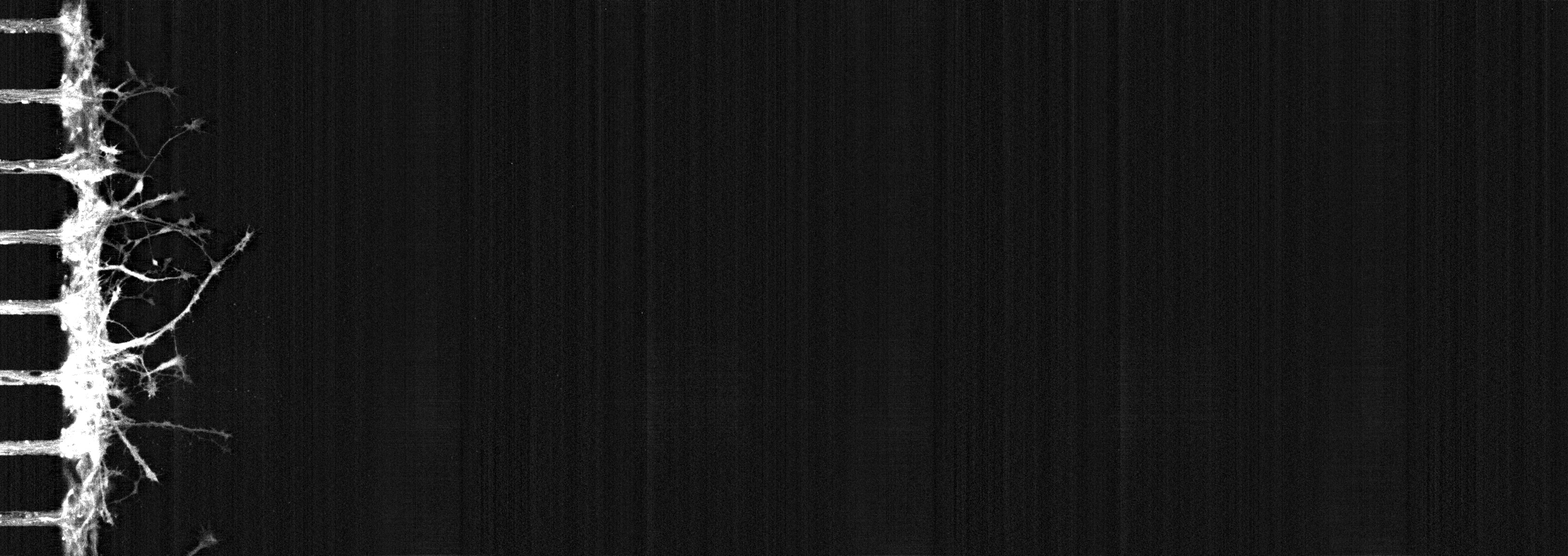tip: (184, 118, 207, 131), (175, 269, 197, 279), (156, 86, 174, 97), (172, 189, 185, 201), (145, 470, 158, 481), (245, 226, 258, 237), (221, 433, 230, 440)
